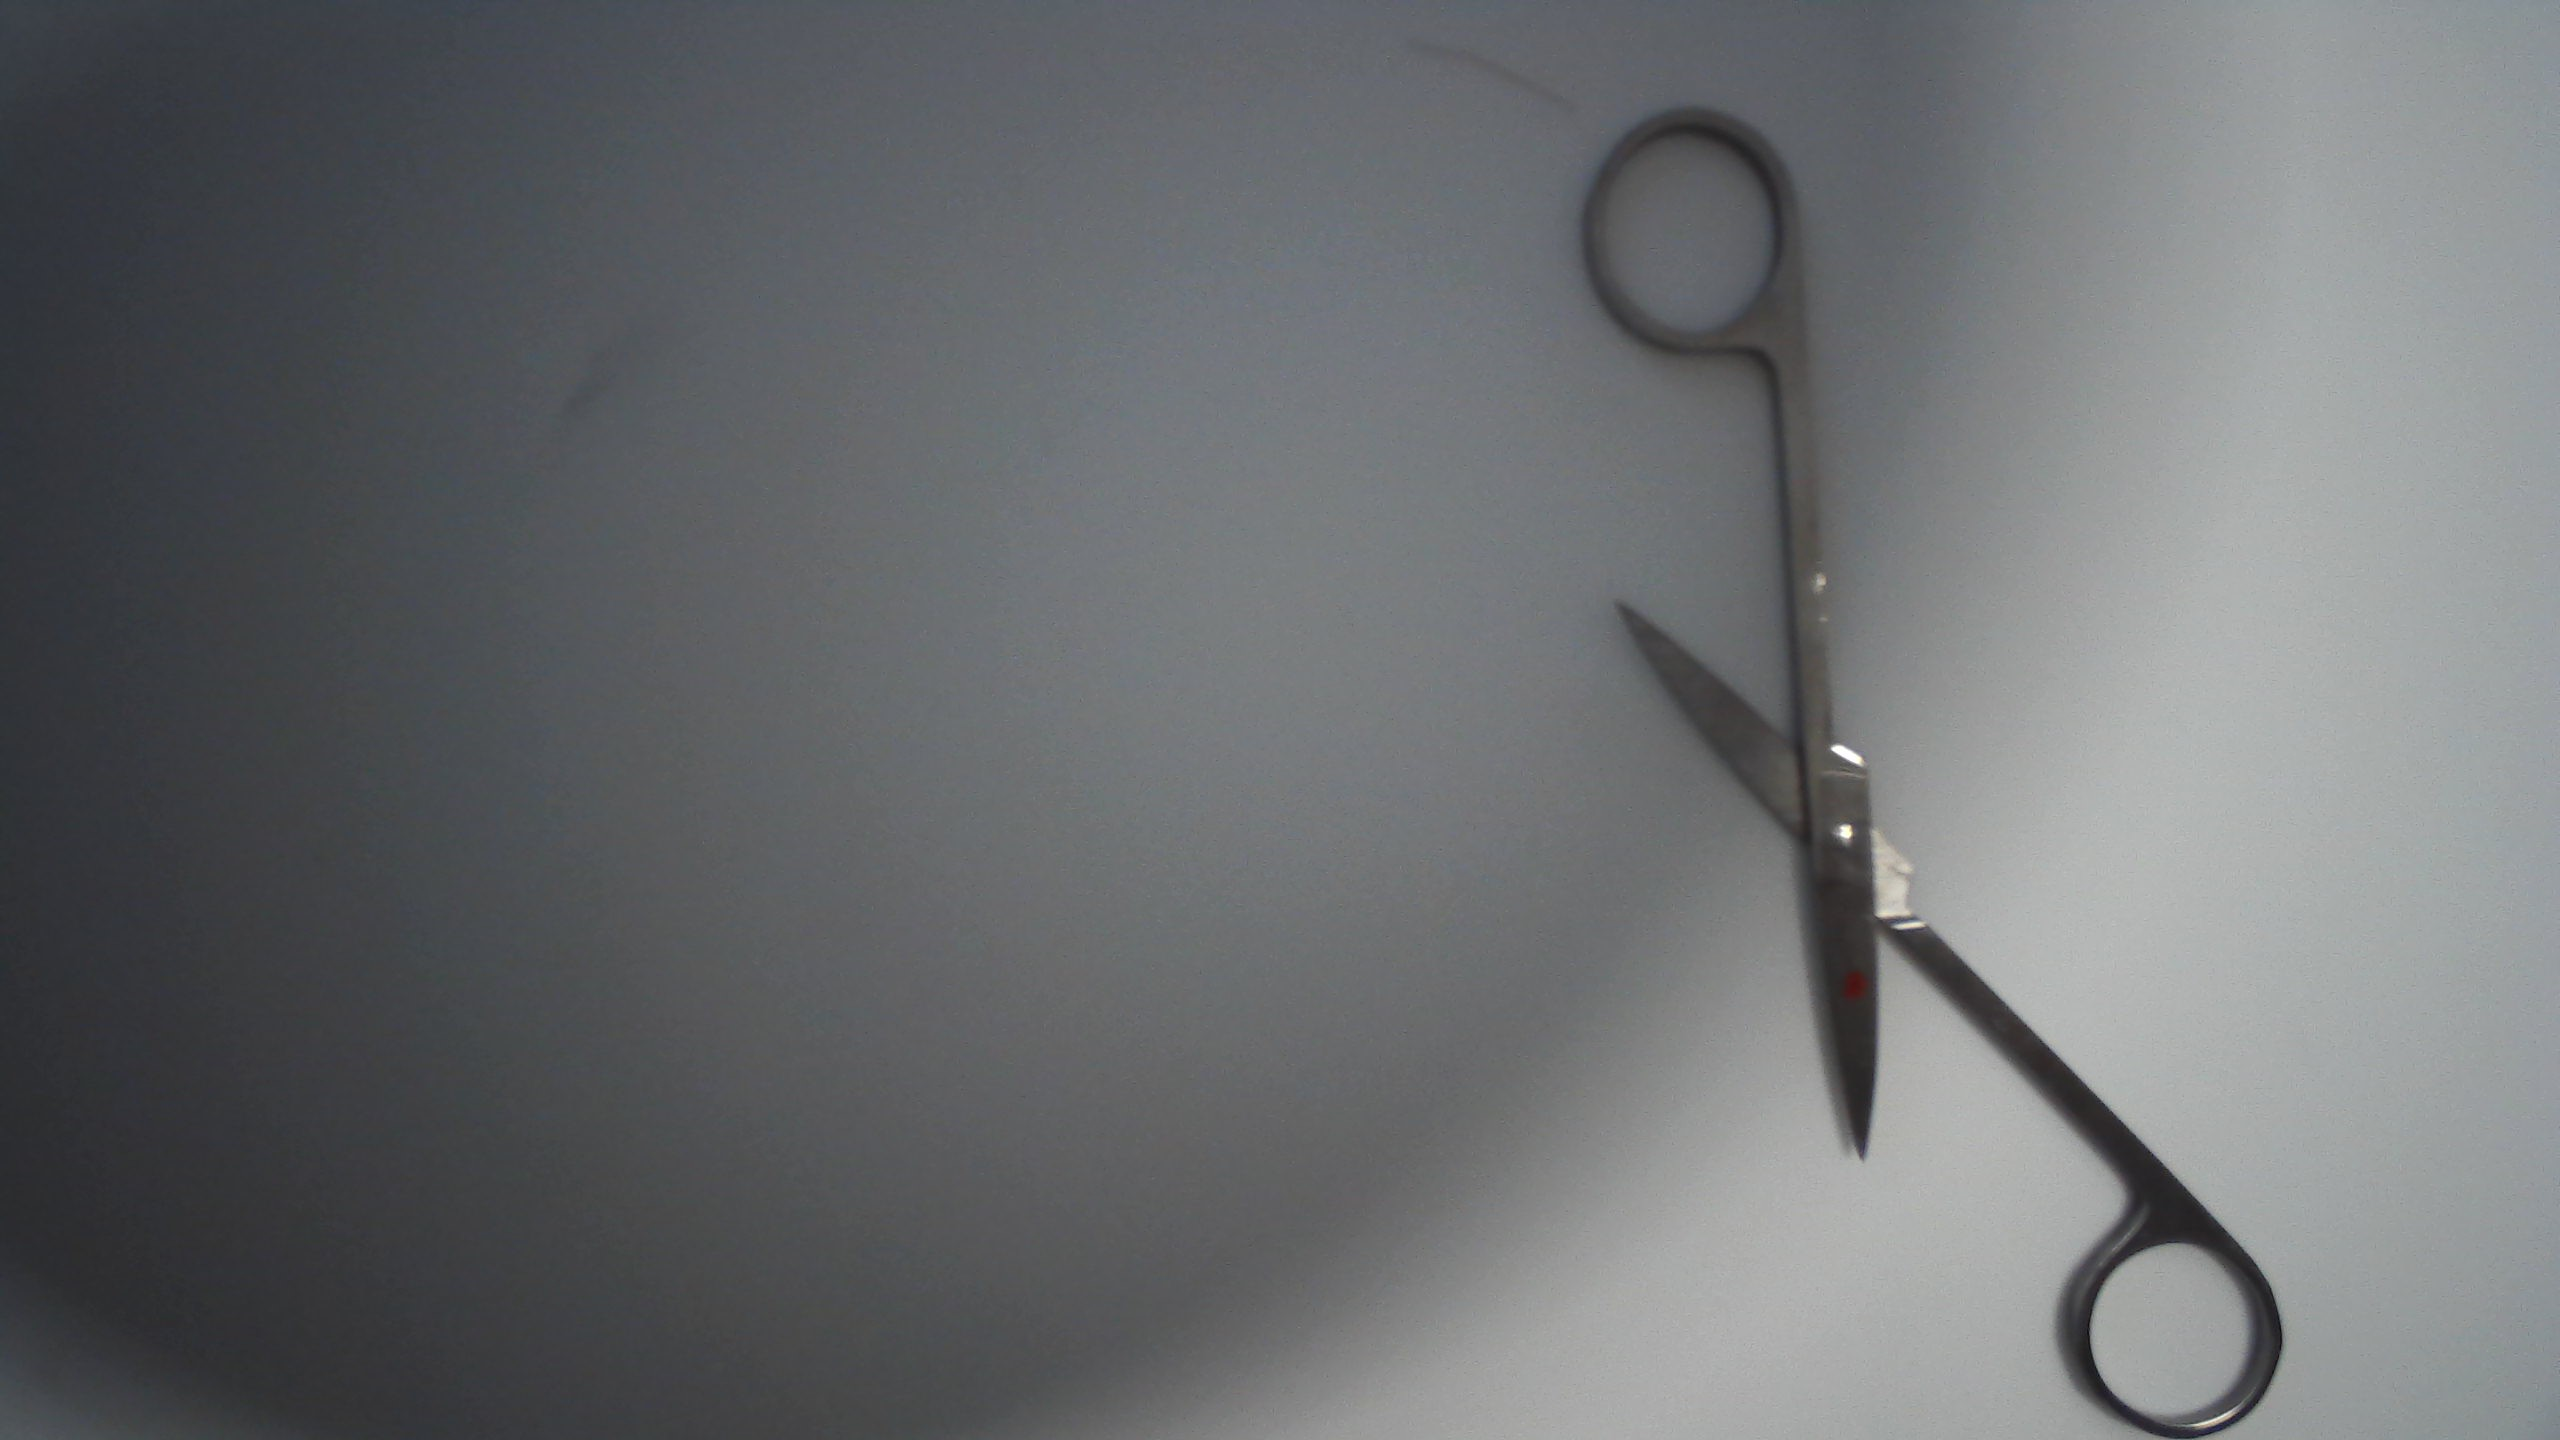Stain: (1834, 951, 1881, 1015)
